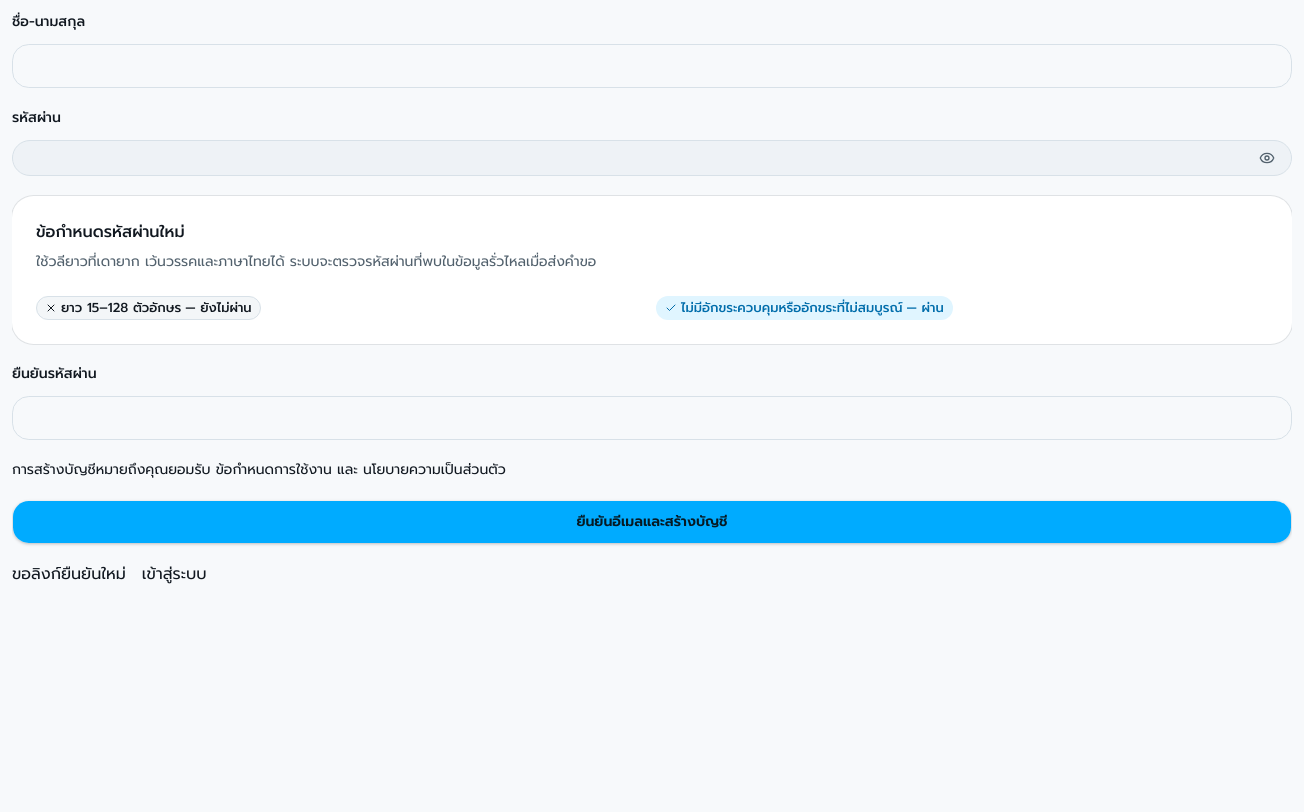
email verification UI › keeps retry/recovery available when the token is expired or confirmation fails
Type "Owner" into the field labelled "ชื่อ-นามสกุล".
click(652, 66); type("Owner")  # box [12,44,1292,88]
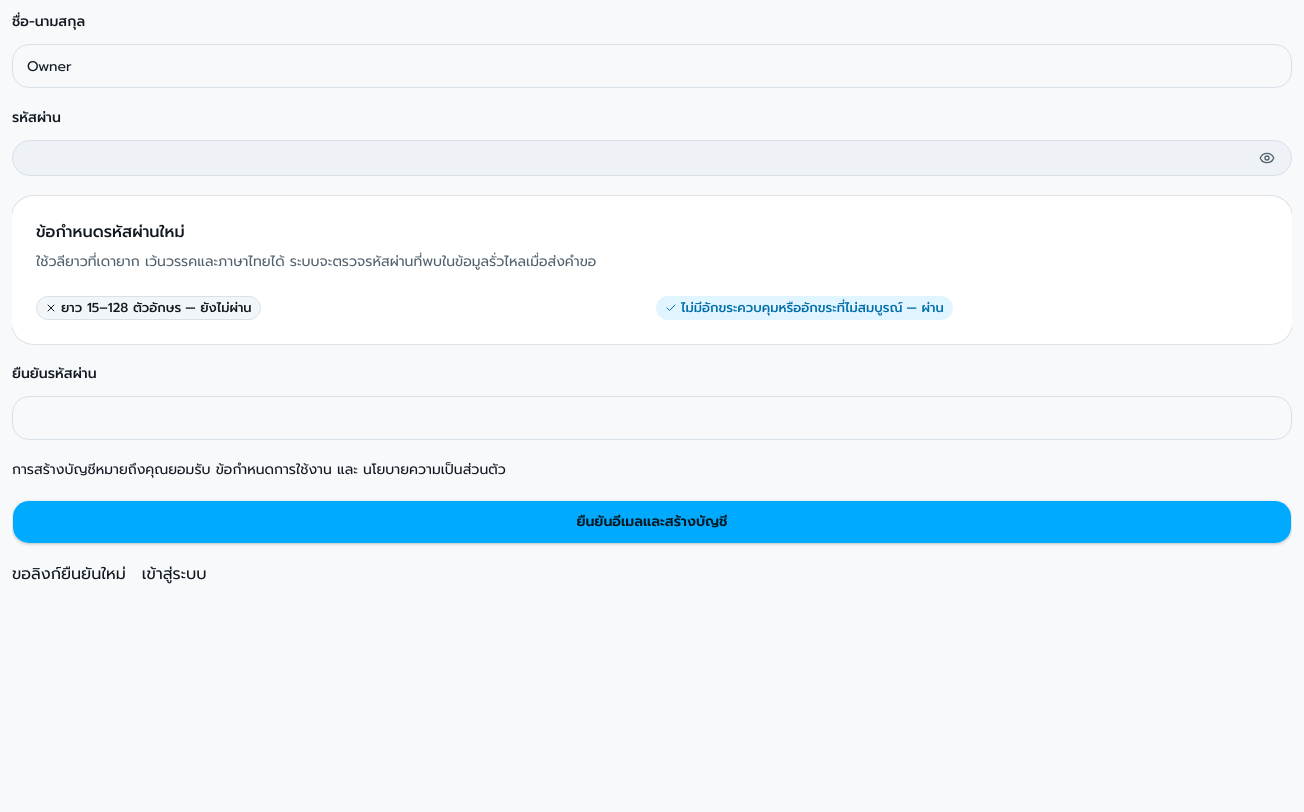
Type "OwnerPassword1!" into the password field labelled "รหัสผ่าน".
click(632, 158); type("OwnerPassword1!")  # box [13,136,1251,180]
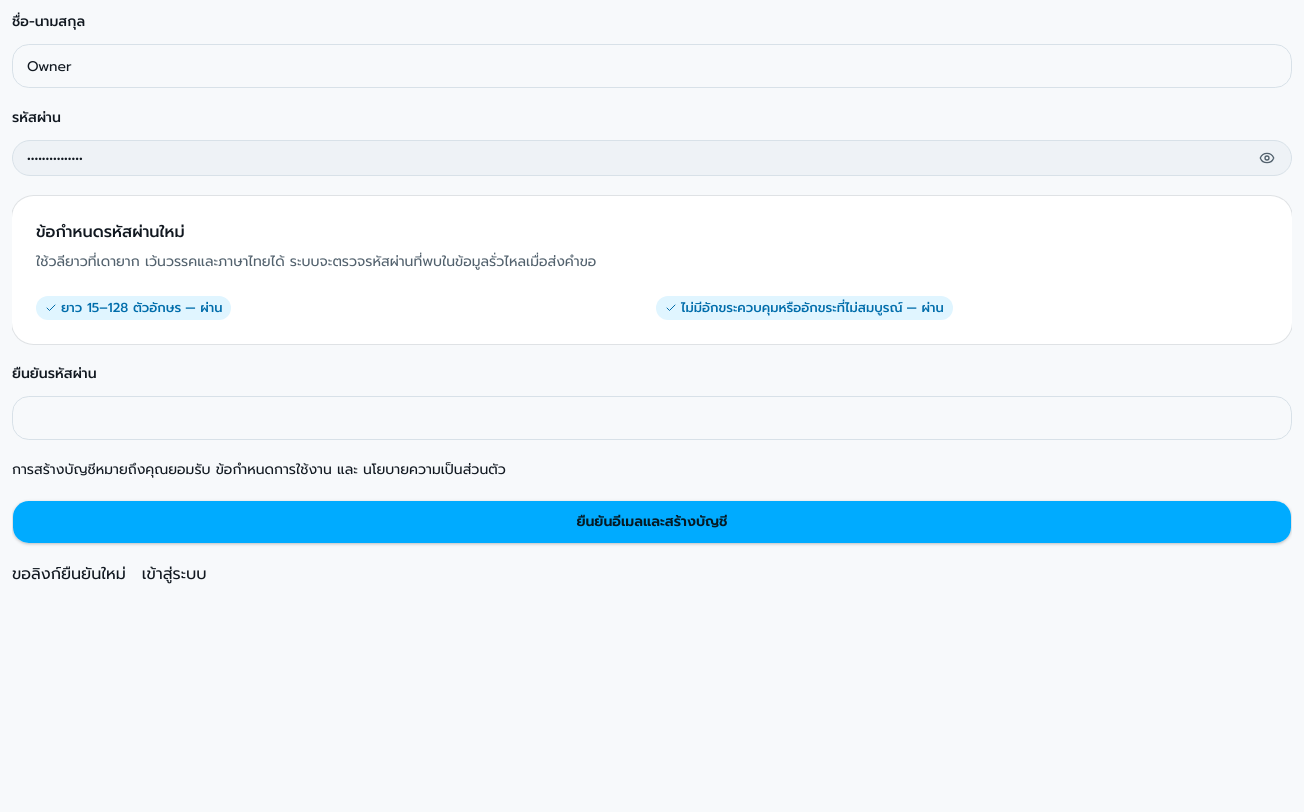
Type "OwnerPassword1!" into the password field labelled "ยืนยันรหัสผ่าน".
click(652, 418); type("OwnerPassword1!")  # box [12,396,1292,440]
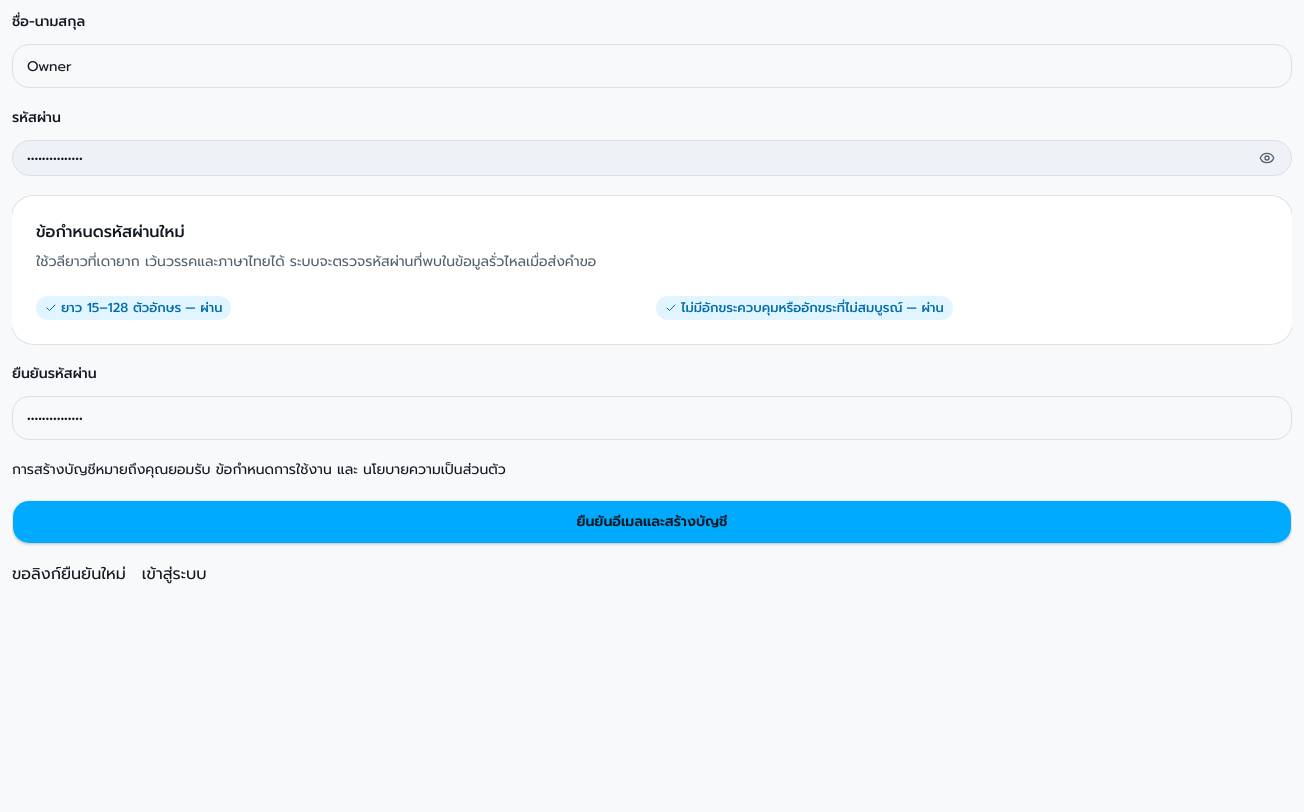
Click the button "ยืนยันอีเมลและสร้างบัญชี".
click(652, 522)  # box [12,500,1292,544]
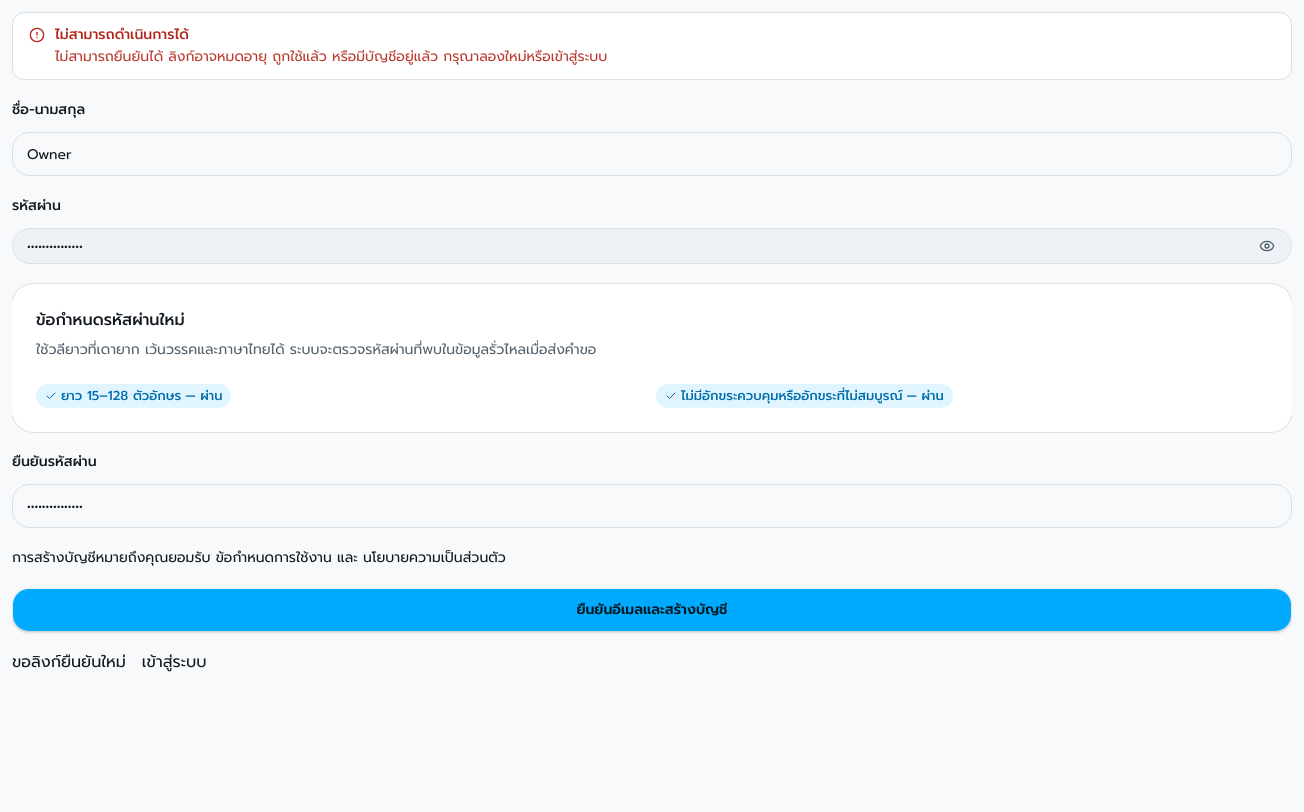
Expected: the link "ขอลิงก์ยืนยันใหม่" is shown, [12,648,126,676]
Expected: the message shows "ไม่สามารถยืนยันได้", [55,46,607,67]
